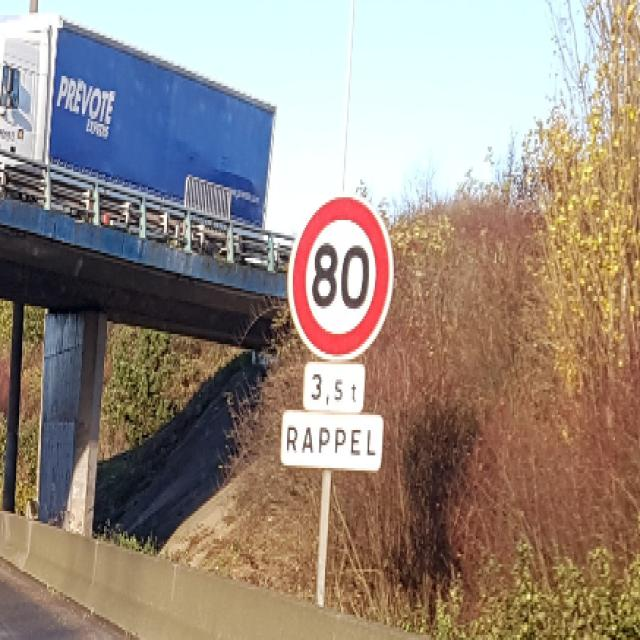speed_80: (288, 189, 393, 365)
